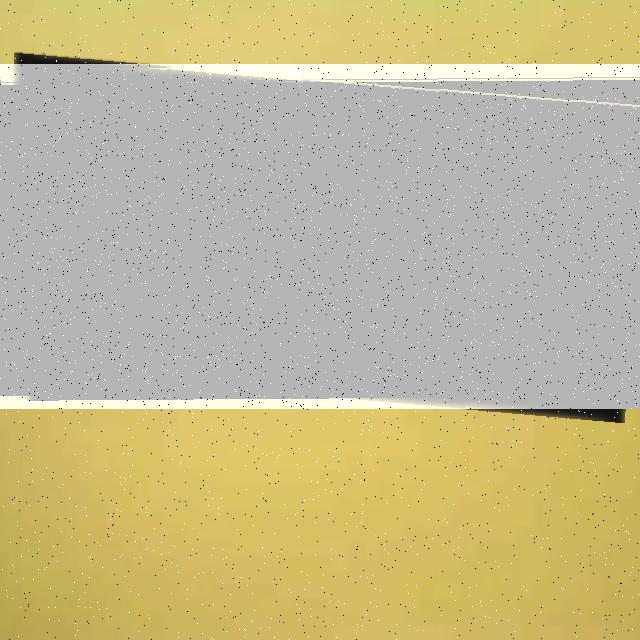dua puluh ribu rupiah: (0, 64, 640, 409)
